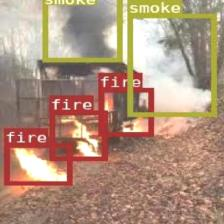smoke: (126, 12, 216, 116), (41, 0, 121, 61)
